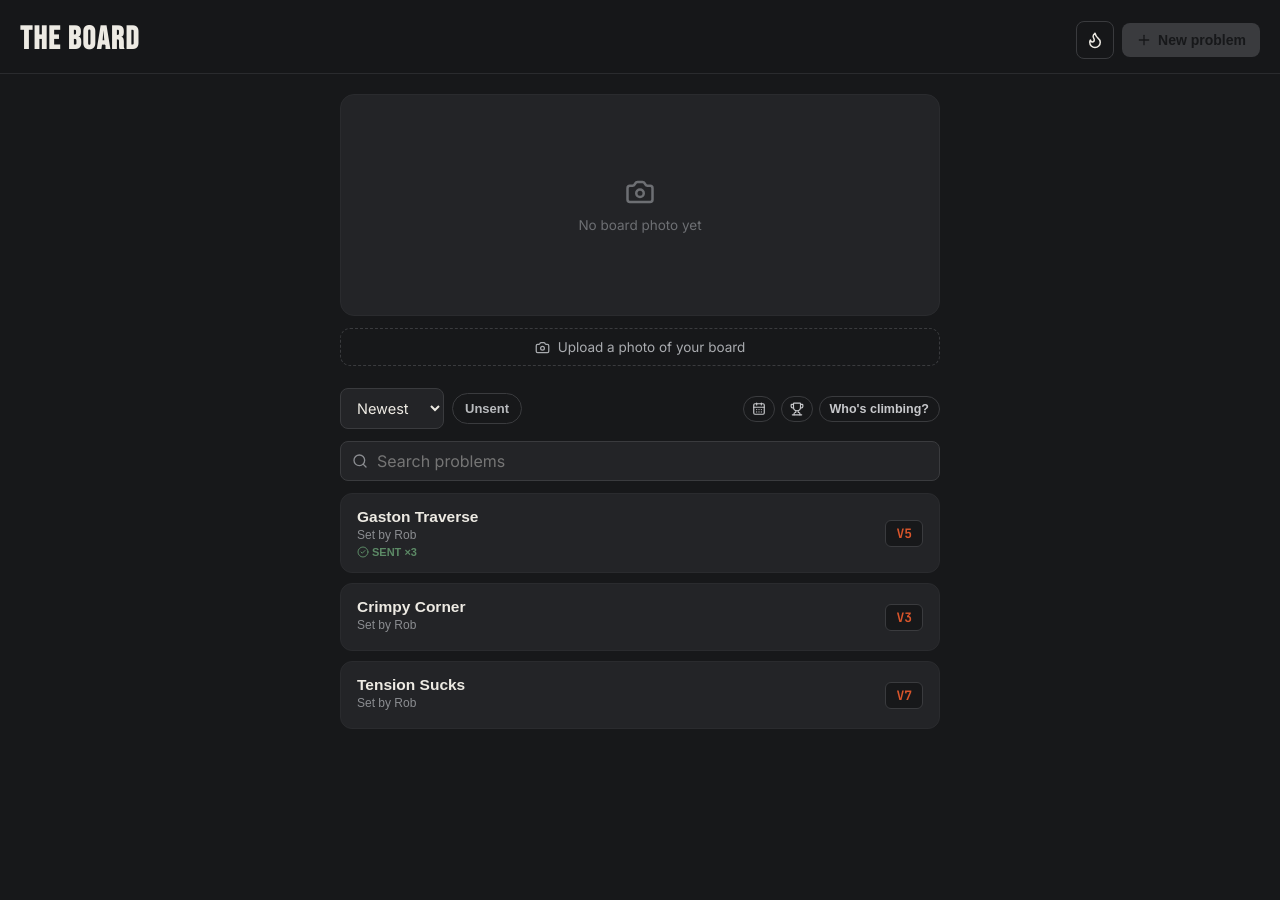
Test case: App (list sort and unsent filter) › shows only problems nobody has sent when Unsent is toggled on, and all again when off
Expected: the text "Gaston Traverse" is shown, left=357, top=508, right=478, bottom=526
Click the button "Unsent".
click(487, 408)  # box left=452, top=393, right=522, bottom=424
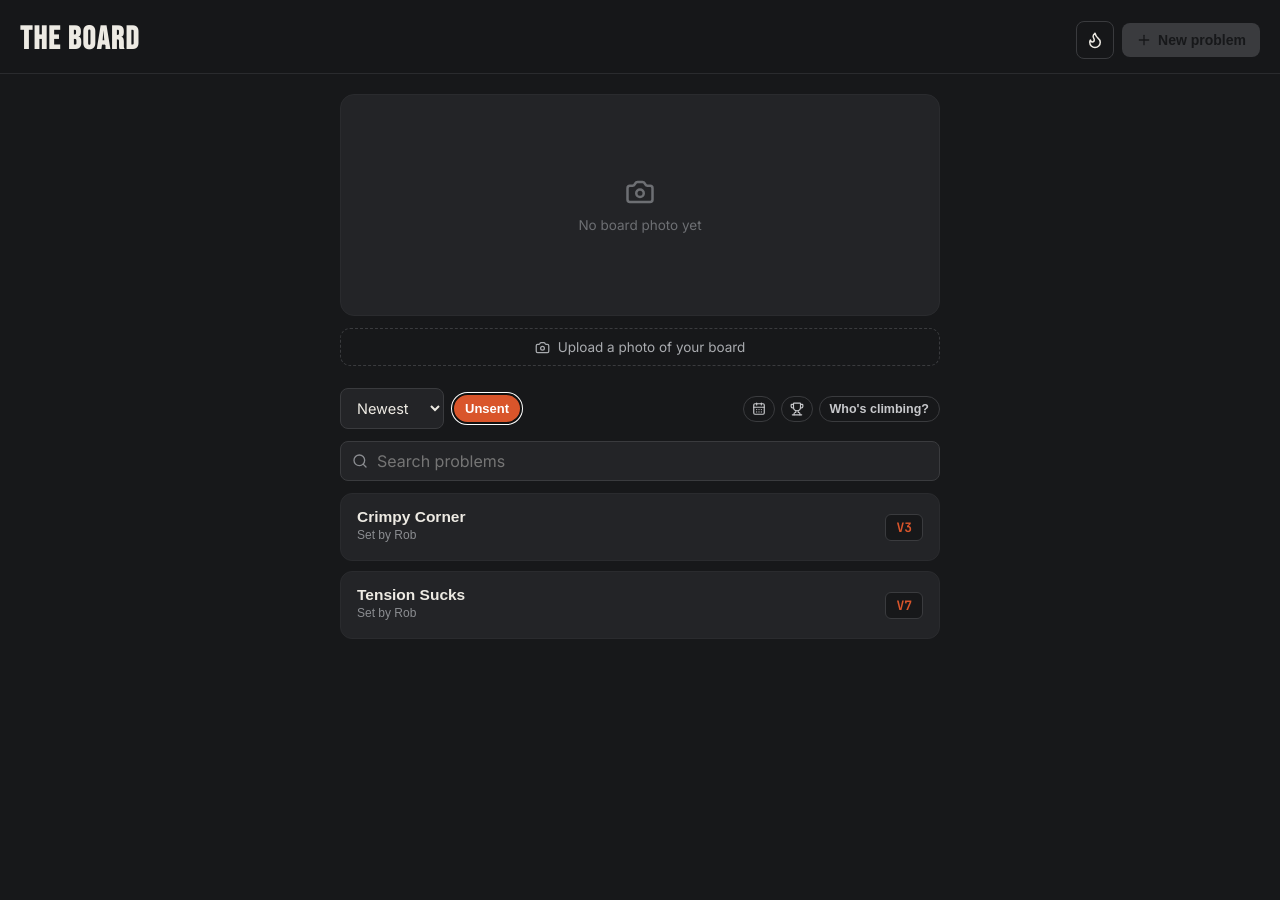
Expected: the text "Crimpy Corner" is shown, left=357, top=508, right=466, bottom=526
Result: the button "Gaston Traverse" is gone
Click the button "Unsent".
click(487, 408)  # box left=452, top=393, right=522, bottom=424
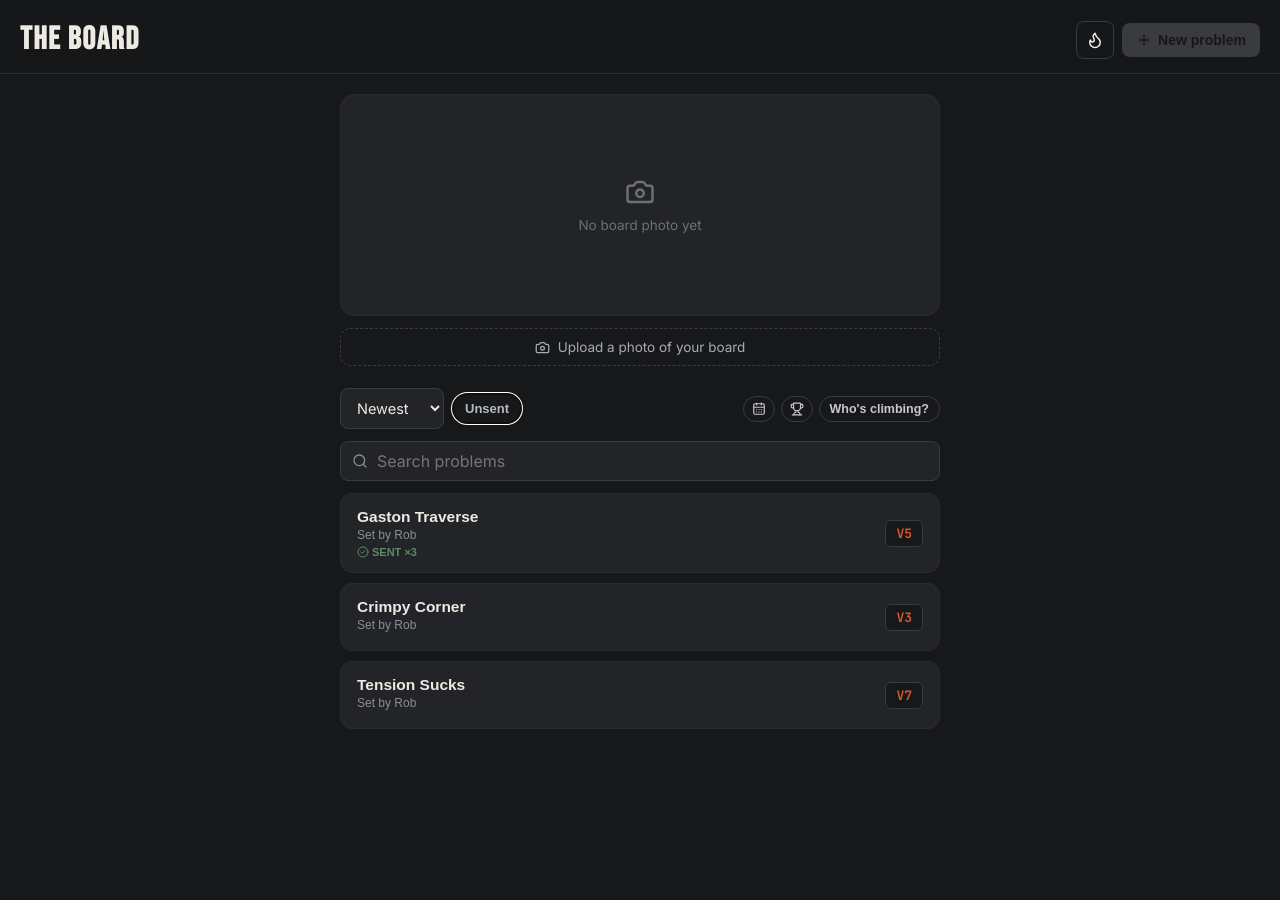
Result: the text "Gaston Traverse" is shown at left=357, top=508, right=478, bottom=526
